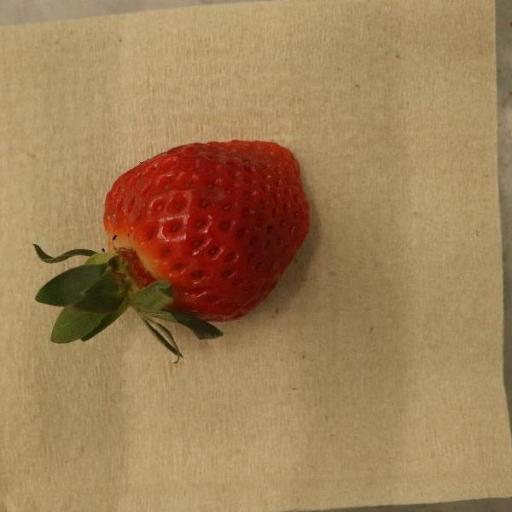Strawberry: (32, 140, 310, 361)
